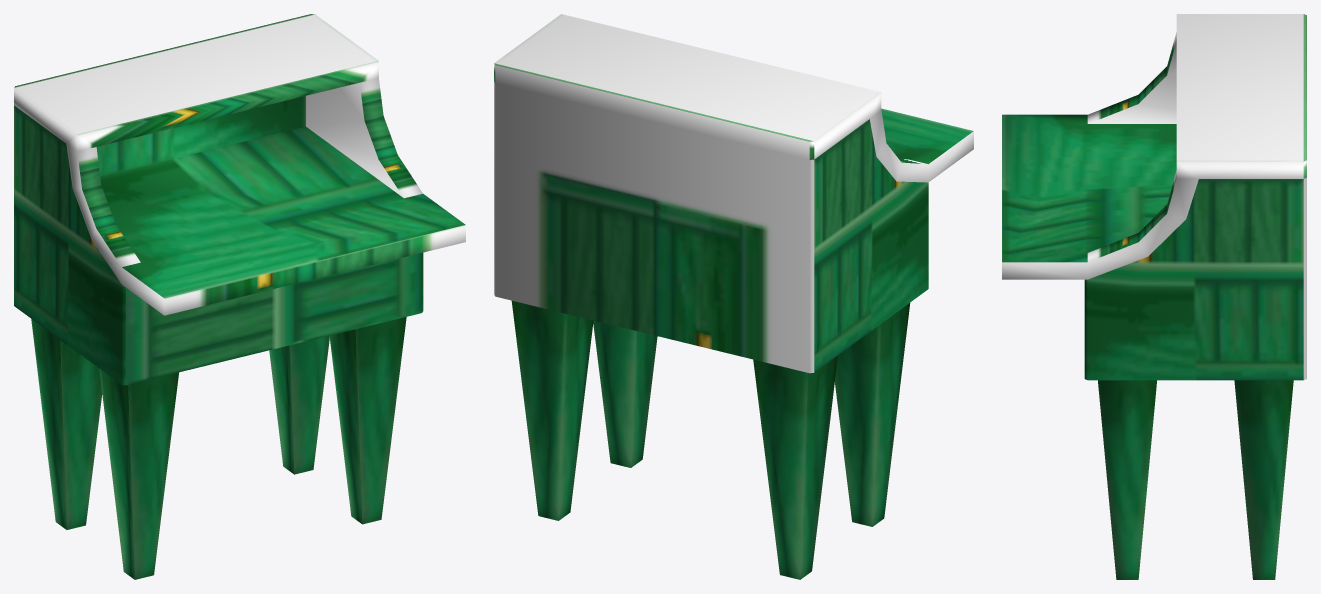
The model's file is rmk_grn_desk.dae.
3 views of the same model, side by side, from view 1: azimuth 30°, elevation 25°; view 2: azimuth 150°, elevation 25°; view 3: azimuth 270°, elevation 25° (orthographic). The views are drawn at different scales.
Visible parts, largest first — view 1: rmk_grn_desk; view 2: rmk_grn_desk; view 3: rmk_grn_desk.
Part boxes in pixels (box(x1,y1,x2,y2)): rmk_grn_desk: box(14, 14, 465, 579); rmk_grn_desk: box(494, 14, 973, 579); rmk_grn_desk: box(1002, 14, 1306, 579).
Bounding box in the file's own units: 27.5 × 37.5 × 24.
1 material, 1 textured.
